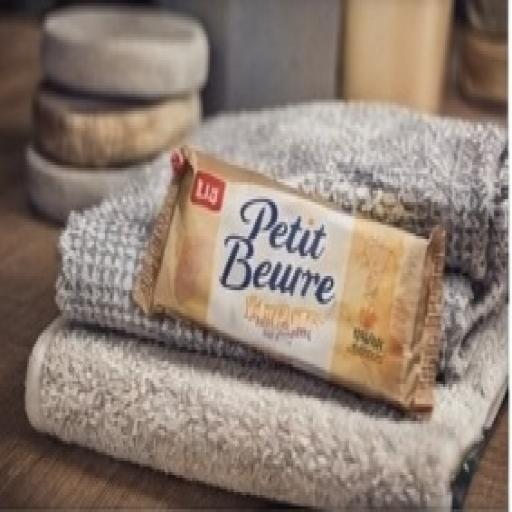petit_beurre: (128, 72, 465, 445)
